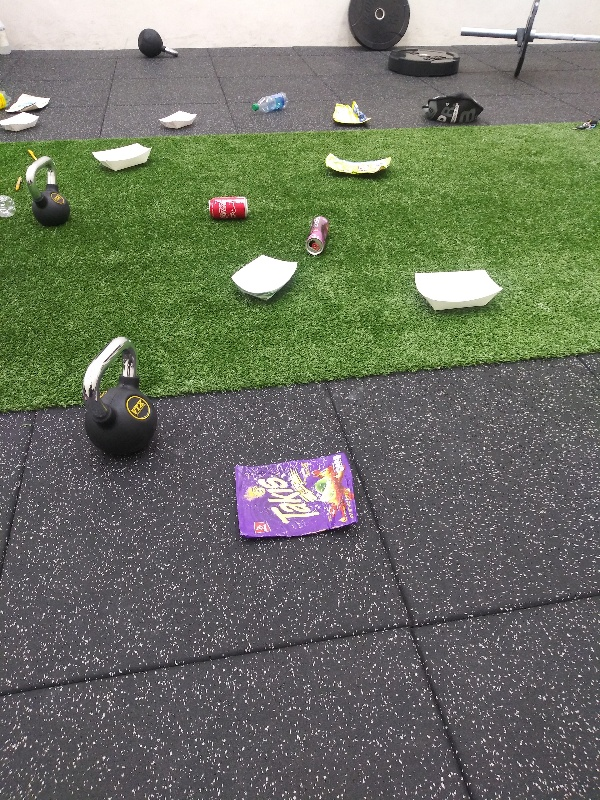bag: (231, 449, 363, 544), (324, 145, 399, 178), (329, 98, 376, 126), (10, 90, 54, 111)
bottle: (249, 90, 291, 116), (1, 189, 19, 225), (1, 86, 15, 114)
can: (302, 213, 332, 261), (203, 192, 253, 220)
plate: (408, 266, 505, 314), (229, 252, 303, 306), (87, 141, 157, 174), (158, 107, 201, 135), (1, 111, 47, 134)
